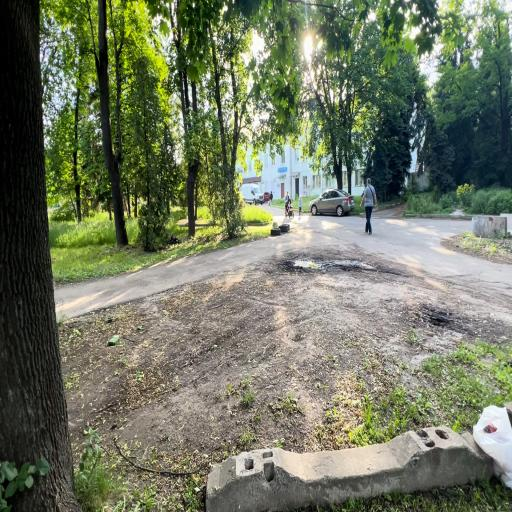drone: (165, 234, 182, 245)
